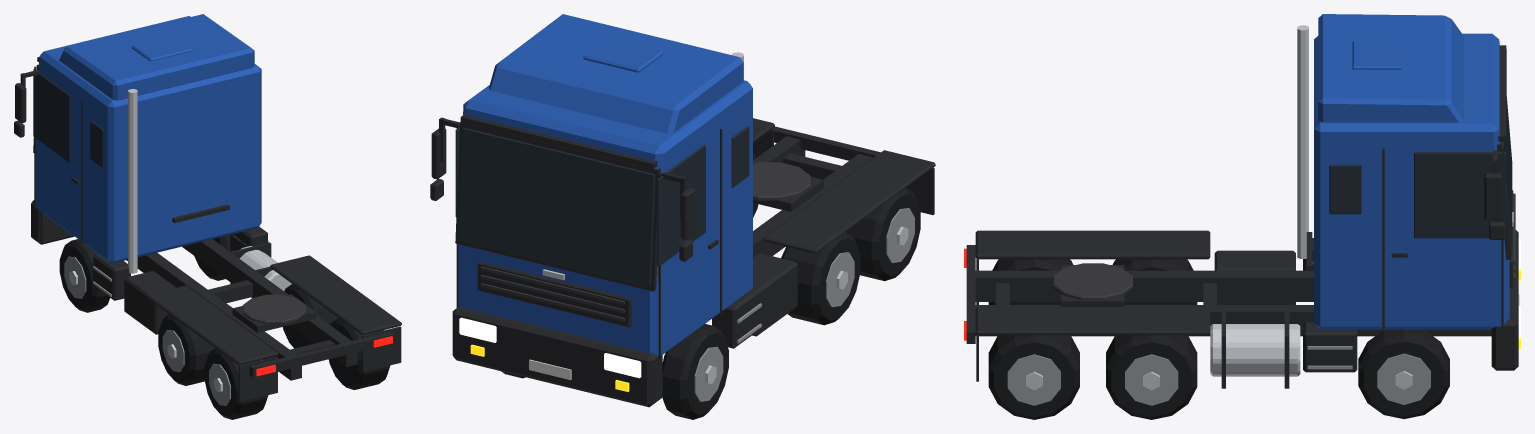
Rendered from truck_cab_blue.glb.
The picture shows the model from 3 angles, left to right: view 1: azimuth 30°, elevation 25°; view 2: azimuth 150°, elevation 25°; view 3: azimuth 270°, elevation 25°; orthographic projection. The views are drawn at different scales.
Parts seen in each view (by area): view 1: Body, Wheel_RL1, Wheel_RL2, Wheel_FL, Wheel_RR2, Wheel_RR1, Wheel_FR; view 2: Body, Wheel_FL, Wheel_RL1, Wheel_RL2; view 3: Body, Wheel_FR, Wheel_RR2, Wheel_RR1, Wheel_RL1, Wheel_RL2.
Part boxes in pixels (bbox=[...]): Body: bbox=[14, 14, 401, 401]; Wheel_RL1: bbox=[158, 314, 215, 385]; Wheel_RL2: bbox=[204, 348, 268, 419]; Wheel_FL: bbox=[59, 239, 109, 312]; Wheel_RR2: bbox=[328, 318, 390, 389]; Wheel_RR1: bbox=[283, 284, 338, 348]; Wheel_FR: bbox=[194, 235, 230, 280]; Body: bbox=[430, 14, 935, 407]; Wheel_FL: bbox=[662, 324, 728, 419]; Wheel_RL1: bbox=[781, 232, 860, 325]; Wheel_RL2: bbox=[846, 188, 920, 281]; Body: bbox=[964, 14, 1520, 388]; Wheel_FR: bbox=[1358, 329, 1449, 419]; Wheel_RR2: bbox=[988, 335, 1079, 419]; Wheel_RR1: bbox=[1106, 335, 1197, 419]; Wheel_RL1: bbox=[1112, 259, 1197, 304]; Wheel_RL2: bbox=[988, 259, 1073, 304].
Size of the model in its own units: 3.19 by 3.93 by 6.17.
